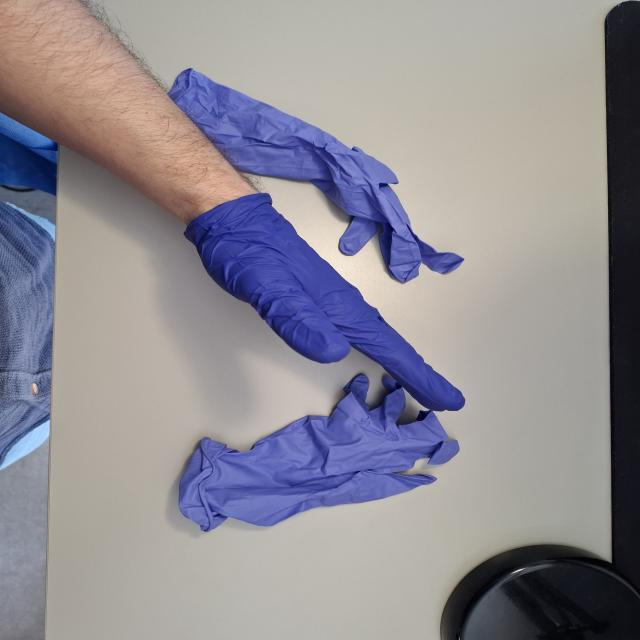glove_on: (182, 191, 470, 416)
